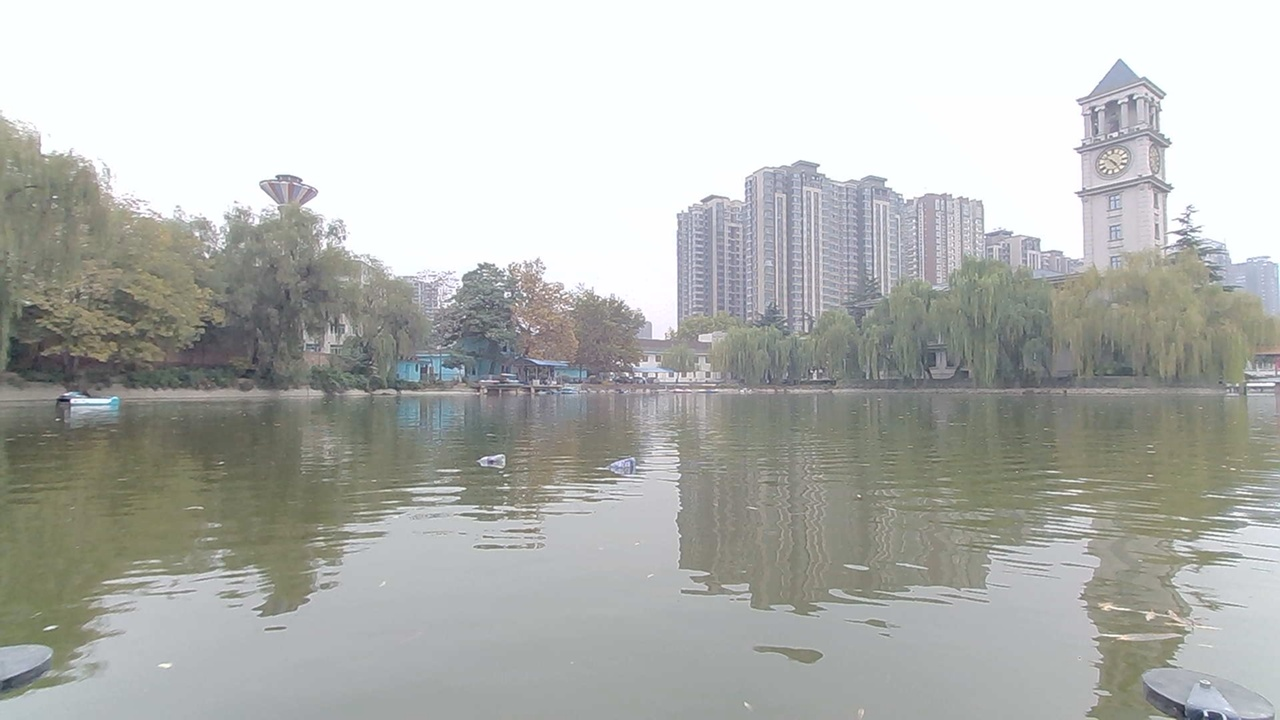bottle: (477, 443, 516, 469), (611, 458, 644, 475)
